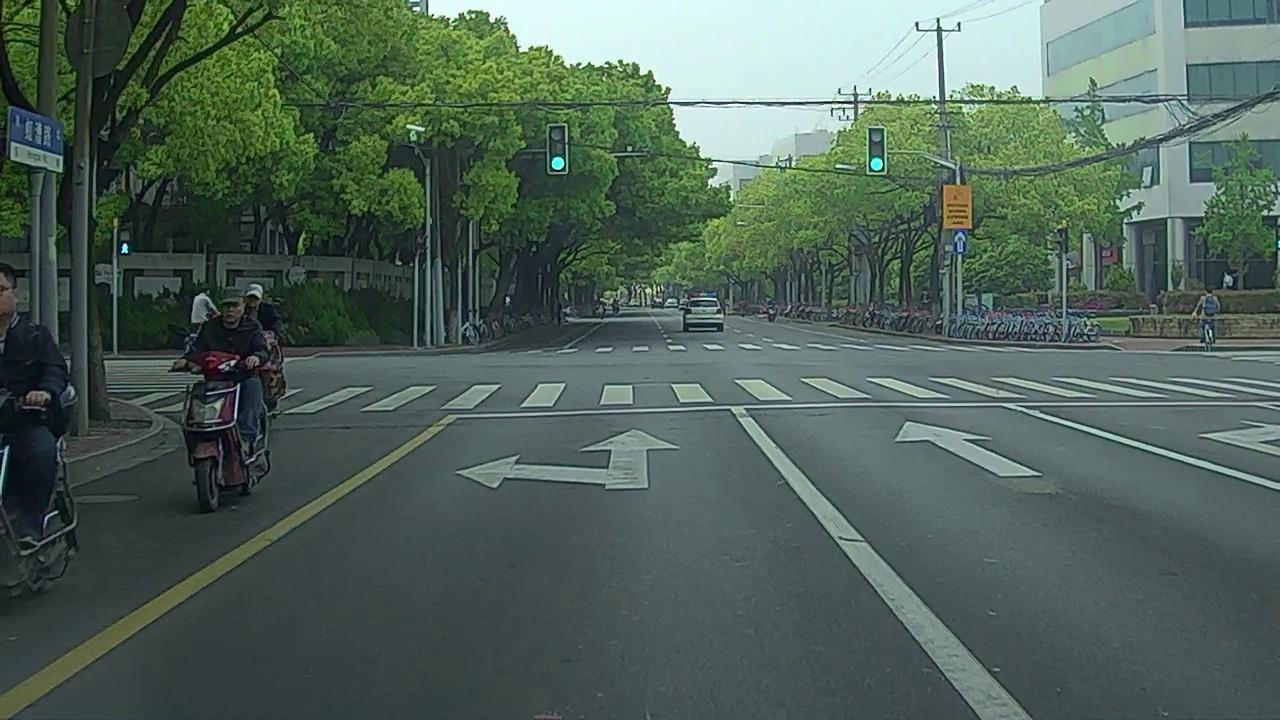traffic_light: (548, 125, 565, 171), (868, 127, 885, 173)
